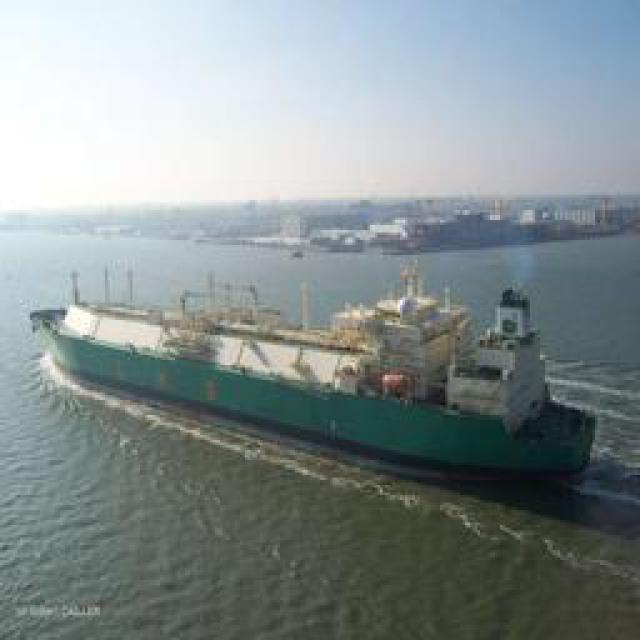Ship: (42, 274, 602, 487)
